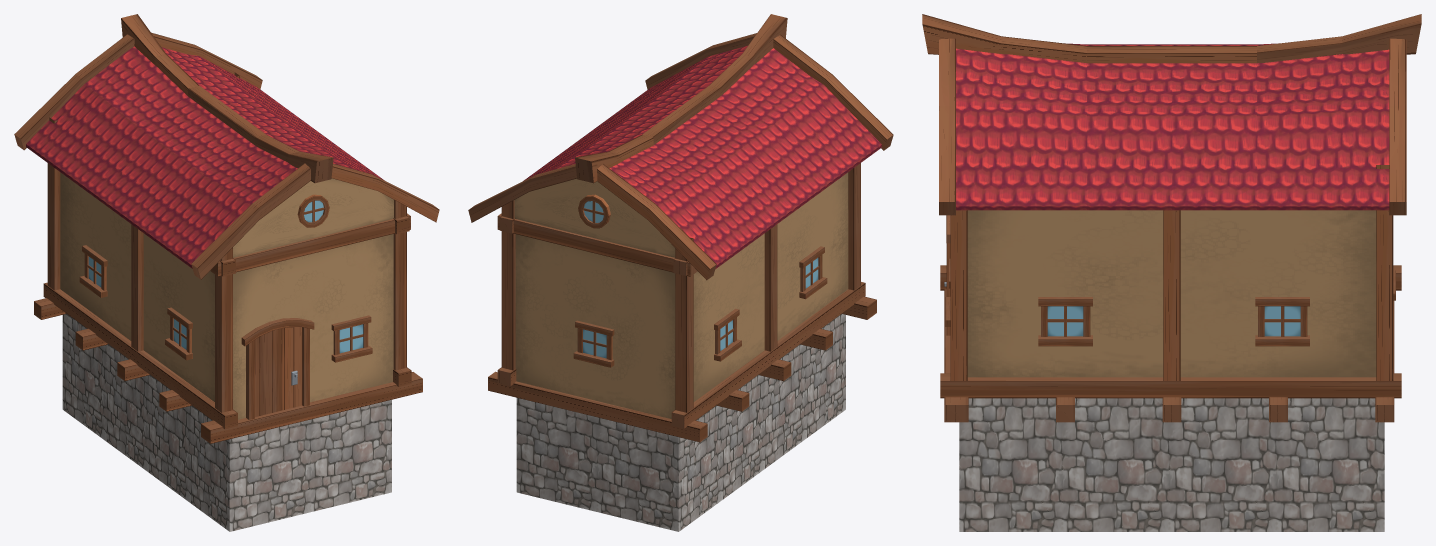
The model's file is house_town_red_0.glb.
3 renders of one model, left to right at view 1: azimuth 30°, elevation 25°; view 2: azimuth 150°, elevation 25°; view 3: azimuth 270°, elevation 25°, orthographic. The views are drawn at different scales.
Parts seen in each view (by area): view 1: house_town_red_0_; view 2: house_town_red_0_; view 3: house_town_red_0_.
Boxes of the visible parts, x1=… form: house_town_red_0_: x1=14, y1=14, x2=439, y2=531; house_town_red_0_: x1=468, y1=14, x2=893, y2=531; house_town_red_0_: x1=922, y1=14, x2=1421, y2=531.
Size of the model in its own units: 8.35 by 11.99 by 11.73.
1 material, 1 textured.
